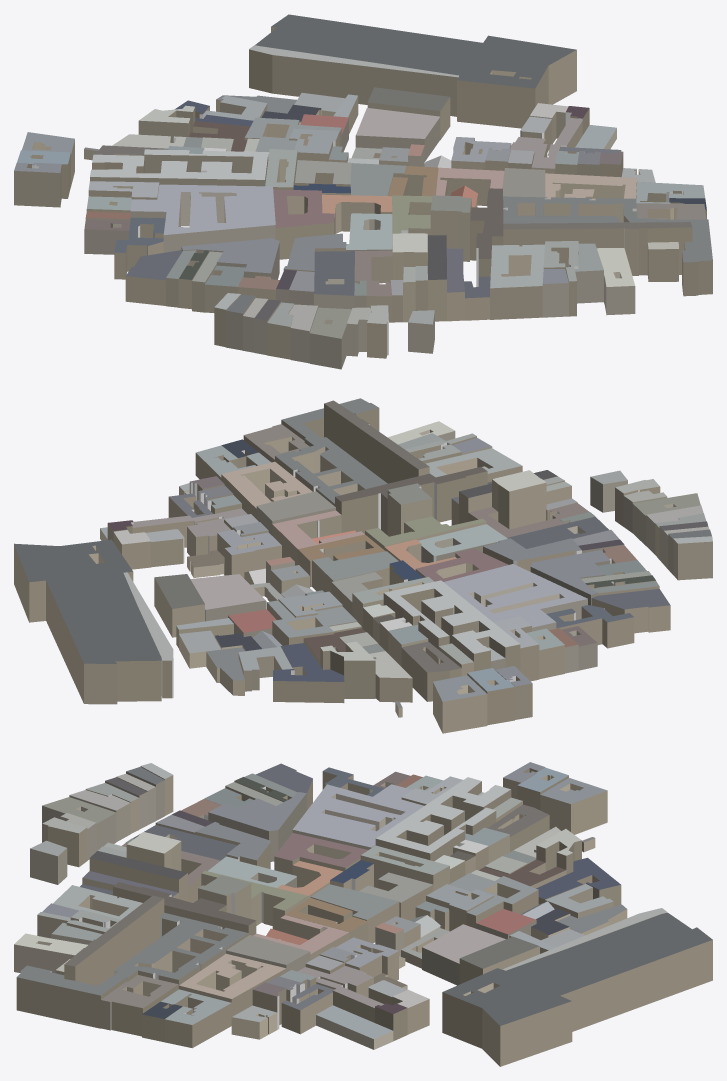
3 views of the same model, one above another, from view 1: azimuth 30°, elevation 25°; view 2: azimuth 150°, elevation 25°; view 3: azimuth 270°, elevation 25° (orthographic). The views are drawn at different scales.
Visible parts, largest first — view 1: tuile; view 2: tuile; view 3: tuile.
Part boxes in pixels (x1,y1,x2,y2): tuile: [14, 14, 712, 369]; tuile: [14, 398, 712, 733]; tuile: [14, 762, 712, 1066].
Bounding box in the file's own units: 290 × 29.98 × 318.
